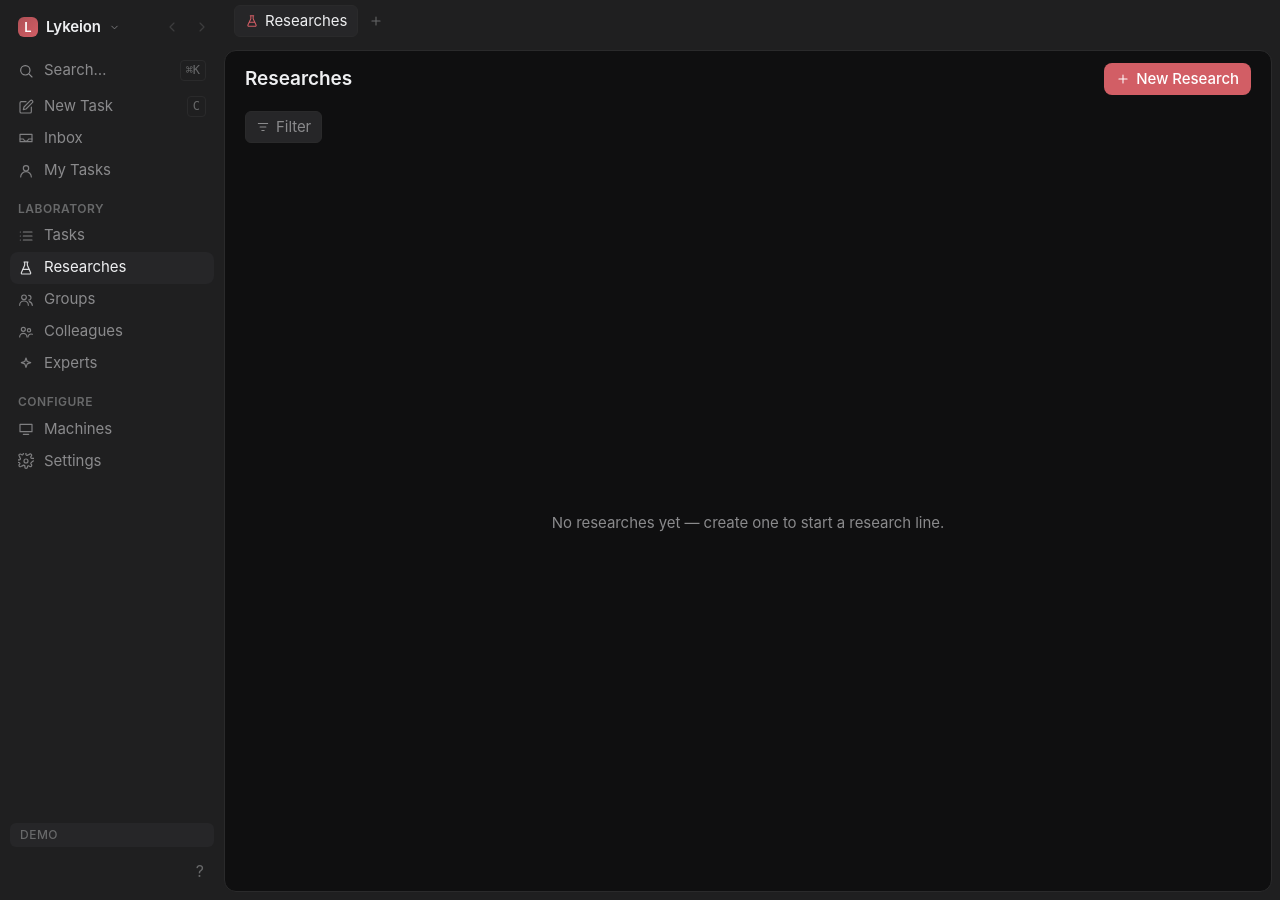
Test: My Tasks empty state on a fresh install
Step 1. Click the link "My Tasks" → (64, 170), box [18, 160, 111, 179]
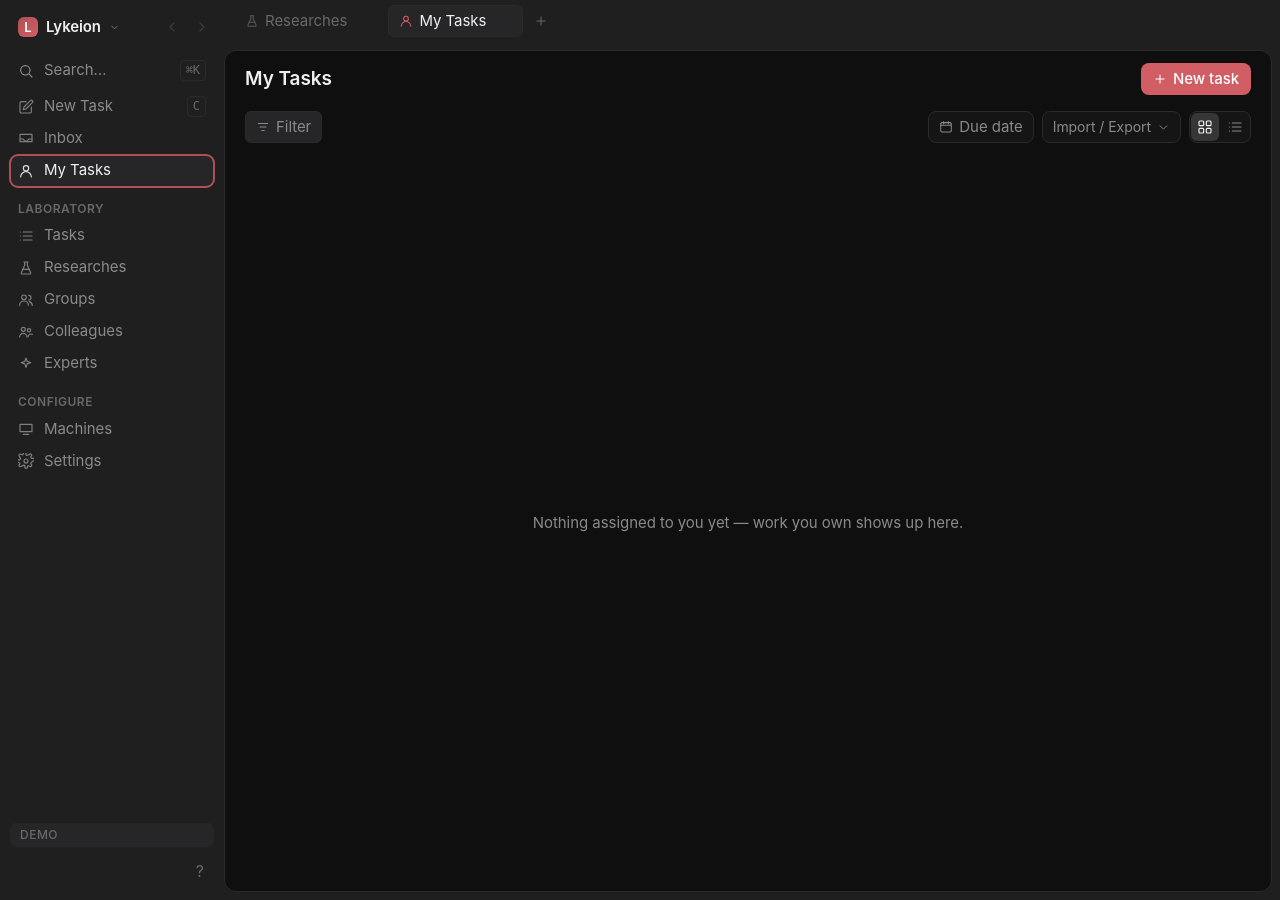
Result: the text "Nothing assigned to you yet — work you own shows up here." is shown at [533, 513, 963, 532]
